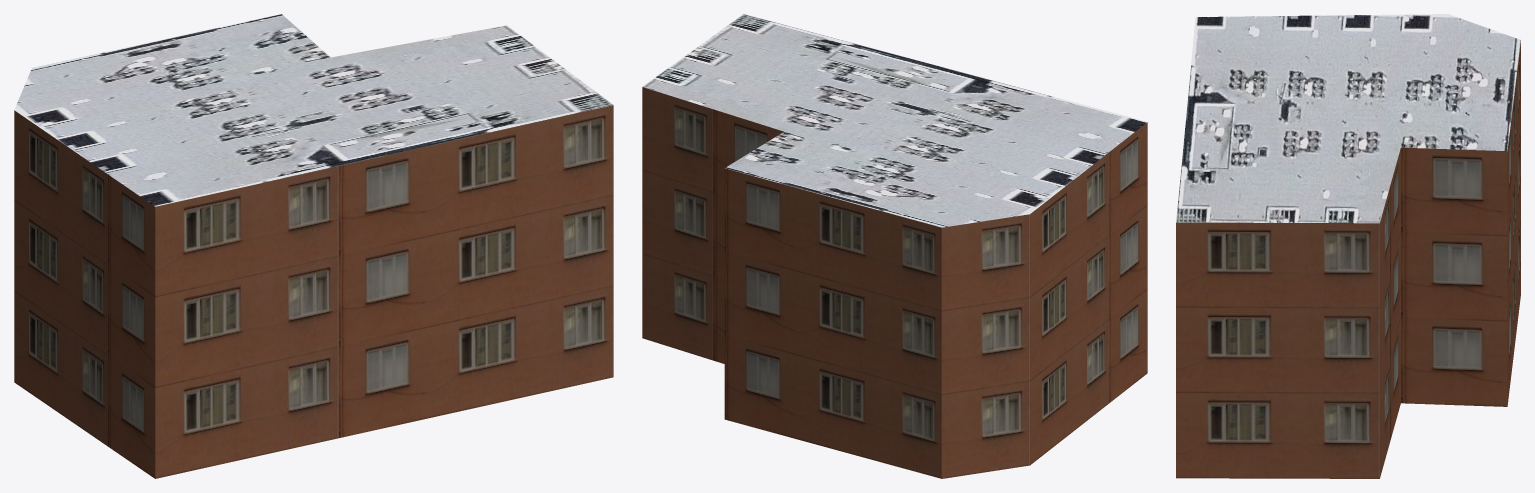
The model's file is ResTex__5157.fbx.
3 renders of one model, left to right at view 1: azimuth 30°, elevation 25°; view 2: azimuth 150°, elevation 25°; view 3: azimuth 270°, elevation 25°, orthographic. The views are drawn at different scales.
Parts seen in each view (by area): view 1: CityEngineMaterial_20_m, CityEngineMaterial_2_m; view 2: CityEngineMaterial_20_m, CityEngineMaterial_2_m; view 3: CityEngineMaterial_20_m, CityEngineMaterial_2_m.
Part boxes in pixels (left/top/right/bottom): CityEngineMaterial_20_m: left=14, top=105, right=613, bottom=478; CityEngineMaterial_2_m: left=14, top=14, right=613, bottom=206; CityEngineMaterial_20_m: left=642, top=87, right=1147, bottom=478; CityEngineMaterial_2_m: left=642, top=14, right=1147, bottom=227; CityEngineMaterial_20_m: left=1176, top=40, right=1520, bottom=478; CityEngineMaterial_2_m: left=1176, top=14, right=1520, bottom=223.
Bounding box in the file's own units: 15.79 × 9 × 11.
Materials: 2 (2 with a texture image).
